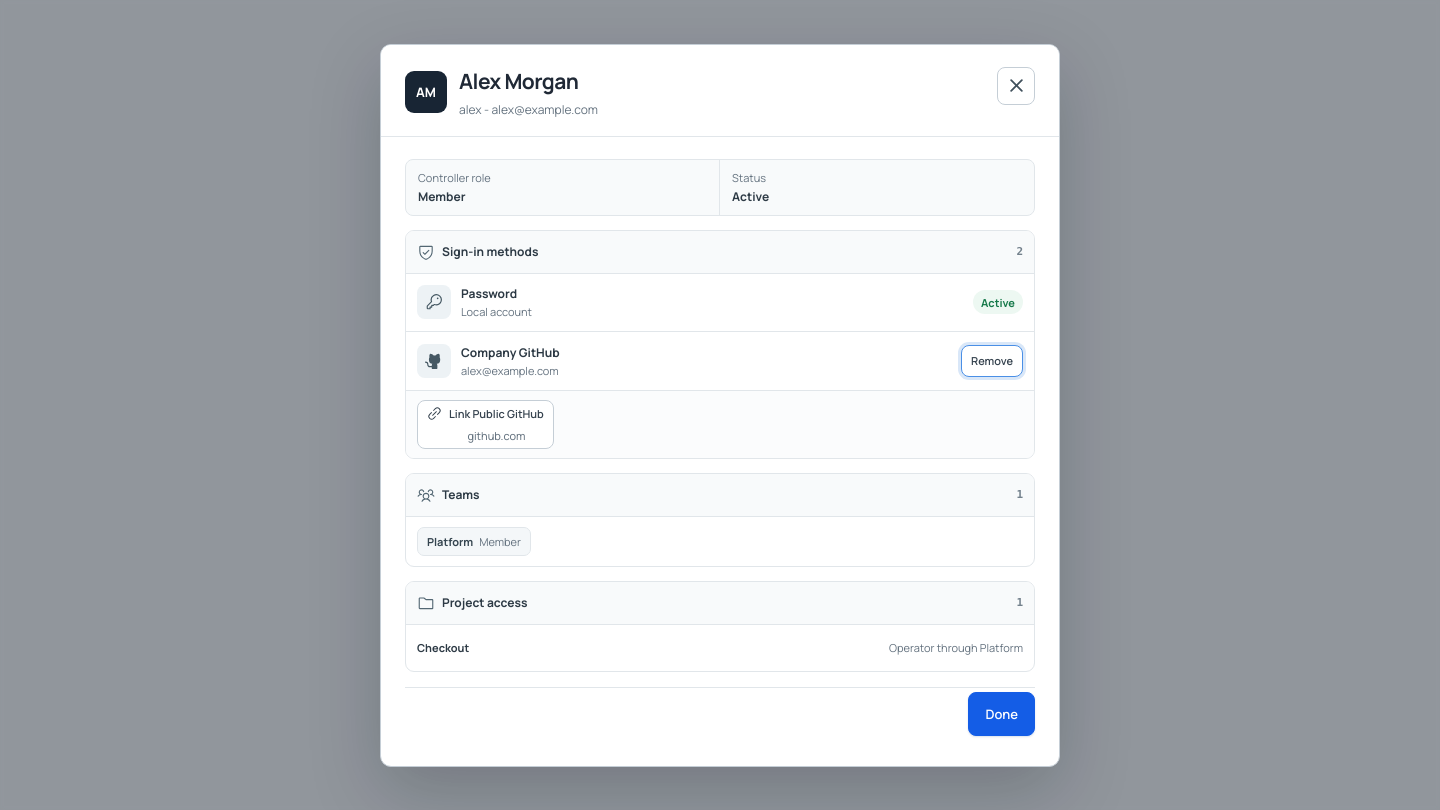
Test: account profile › removes a linked method without closing the profile
This screenshot has width=1440, height=810.
Expected: the text "Company GitHub" is shown, x1=461 y1=344 x2=560 y2=360
Click the button "Remove".
click(992, 360)  # box x1=961 y1=344 x2=1023 y2=376
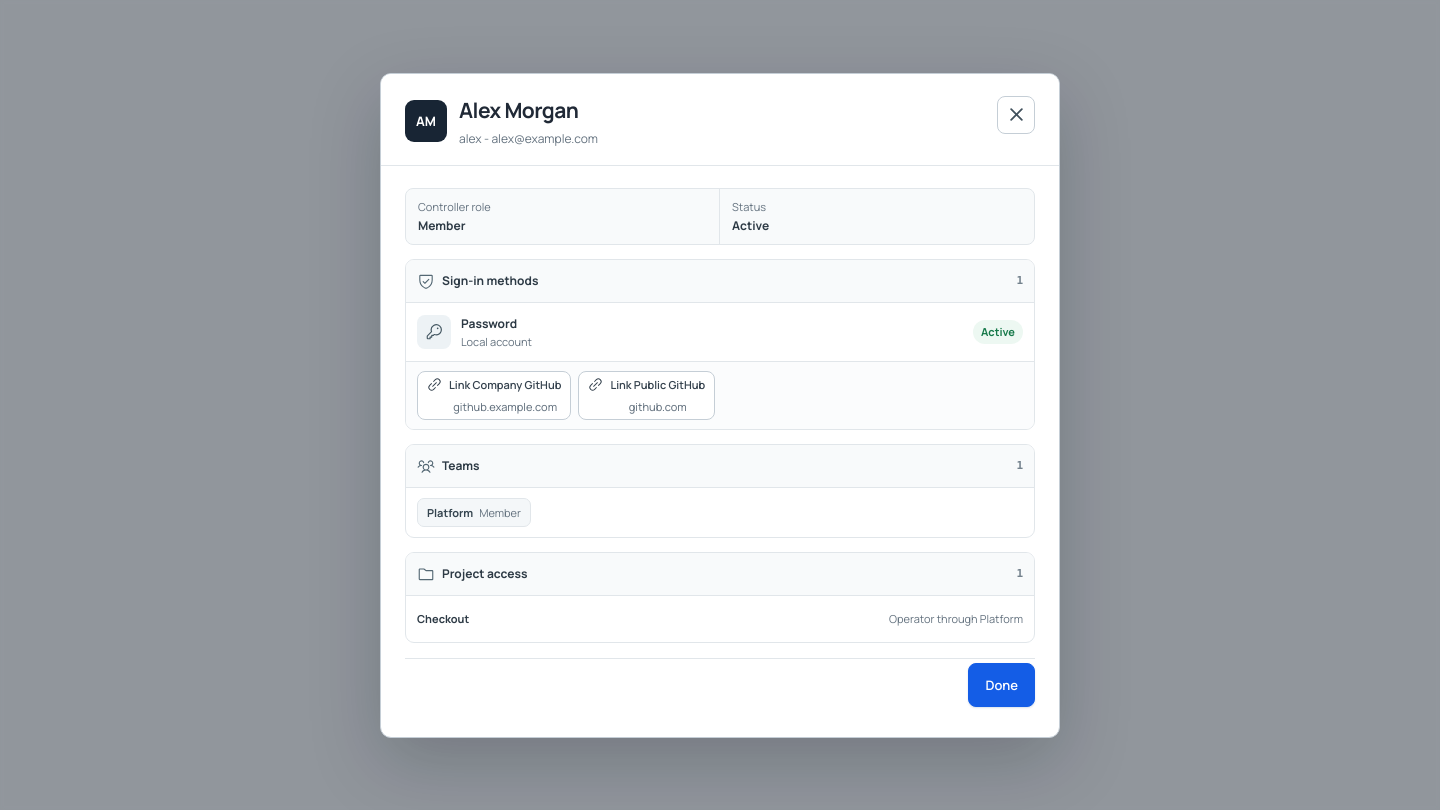
Expected: the button "Link Company GitHub github.example.com" is shown, x1=417 y1=370 x2=571 y2=420
